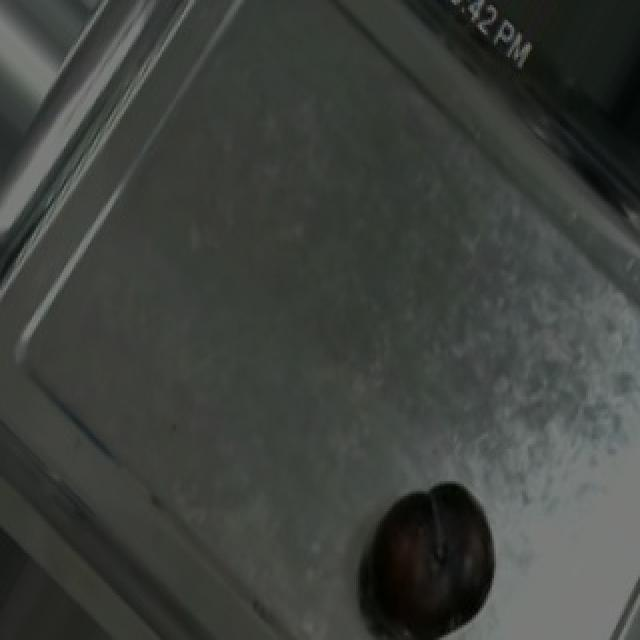Fruit: (352, 464, 514, 640)
